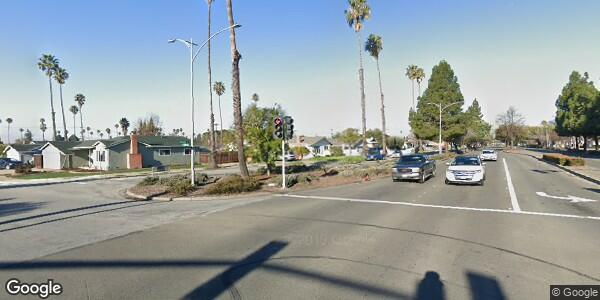Steel_Pole: (166, 22, 242, 188)
